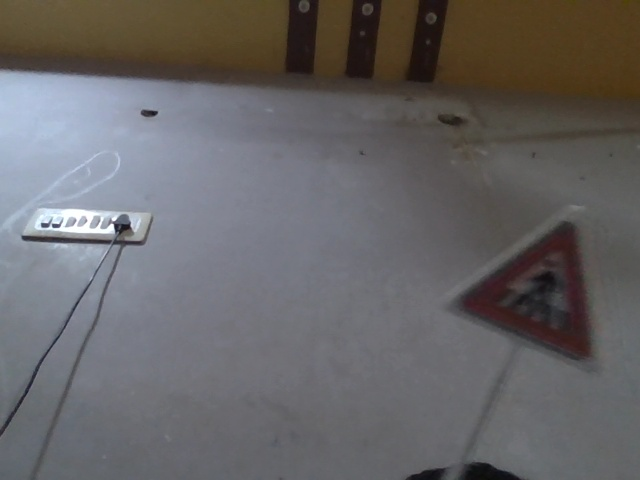crossing: (436, 164, 604, 366)
